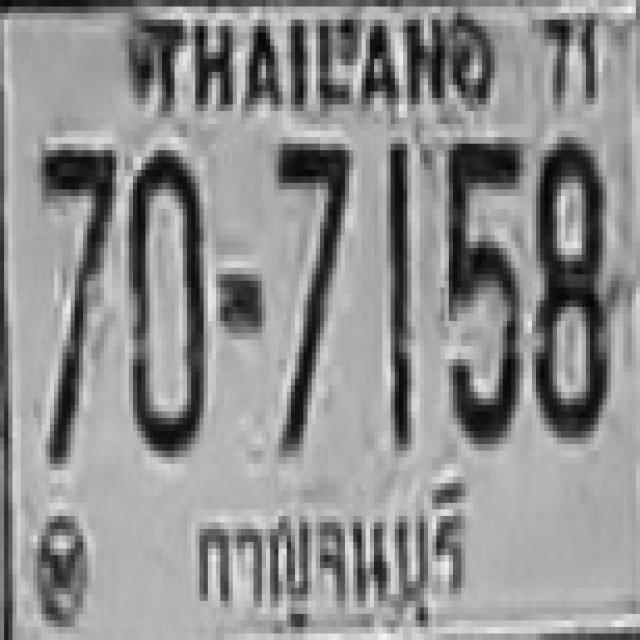0: (124, 144, 203, 450)
1: (384, 137, 410, 444)
5: (444, 137, 520, 438)
7: (36, 144, 114, 457), (272, 137, 347, 451), (38, 144, 116, 352)
8: (532, 131, 603, 431)
Kanchanaburi: (189, 478, 477, 639)
